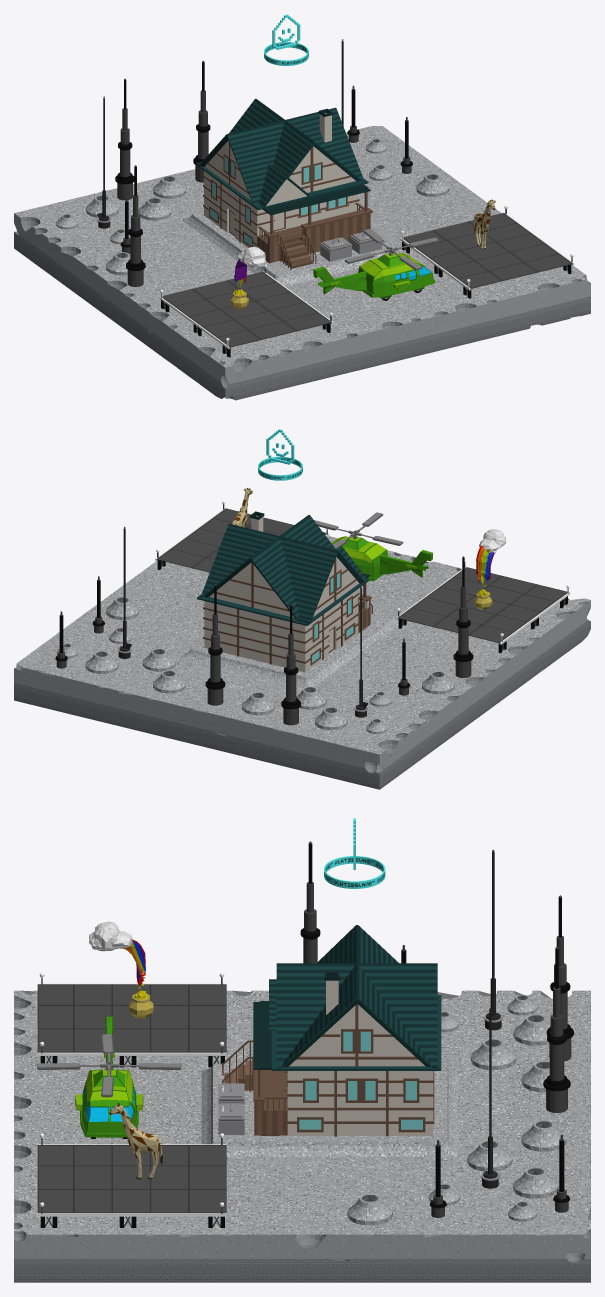
3 views of the same model, one above another, from view 1: azimuth 30°, elevation 25°; view 2: azimuth 150°, elevation 25°; view 3: azimuth 270°, elevation 25° (orthographic). The views are drawn at different scales.
Parts seen in each view (by area): view 1: Cube.027, Cube.793, Cube.025, Cube.026, VEHICLES_HELICOPTER, Cube.028, Cylinder.021, Cylinder.020, OBJRANDOM_RAINBOW, Cylinder.017, TYPE_PREMIUM, Cube.029 (+5 smaller); view 2: Cube.027, Cube.793, Cube.025, Cube.028, Cube.026, VEHICLES_HELICOPTER, OBJRANDOM_RAINBOW, Cylinder.017, Cylinder.021, Cylinder.020, TYPE_PREMIUM, Cylinder.030 (+8 smaller); view 3: Cube.027, Cube.793, Cube.026, Cube.025, Cube.028, VEHICLES_HELICOPTER, Cylinder.017, OBJRANDOM_RAINBOW, Cylinder.020, ANIMAL_JIRAFA, Cylinder.021, TYPE_PREMIUM (+12 smaller).
Part boxes in pixels (left/top/right/bottom): Cube.027: left=14, top=126, right=590, bottom=400; Cube.793: left=196, top=98, right=372, bottom=269; Cube.025: left=159, top=265, right=333, bottom=357; Cube.026: left=400, top=205, right=574, bottom=298; VEHICLES_HELICOPTER: left=313, top=229, right=439, bottom=300; Cube.028: left=182, top=211, right=399, bottom=286; Cylinder.021: left=126, top=165, right=145, bottom=286; Cylinder.020: left=115, top=78, right=134, bottom=200; OBJRANDOM_RAINBOW: left=230, top=247, right=266, bottom=309; Cylinder.017: left=193, top=60, right=210, bottom=182; TYPE_PREMIUM: left=264, top=14, right=308, bottom=65; Cube.029: left=320, top=237, right=351, bottom=261; Cube.027: left=14, top=536, right=590, bottom=789; Cube.793: left=197, top=511, right=372, bottom=672; Cube.025: left=396, top=560, right=570, bottom=653; Cube.028: left=181, top=610, right=398, bottom=688; Cube.026: left=155, top=501, right=329, bottom=572; VEHICLES_HELICOPTER: left=314, top=512, right=432, bottom=581; OBJRANDOM_RAINBOW: left=474, top=529, right=506, bottom=610; Cylinder.017: left=205, top=583, right=225, bottom=705; Cylinder.021: left=453, top=556, right=473, bottom=677; Cylinder.020: left=281, top=603, right=300, bottom=725; TYPE_PREMIUM: left=258, top=429, right=302, bottom=480; Cylinder.030: left=142, top=648, right=175, bottom=671; Cube.027: left=14, top=990, right=590, bottom=1282; Cube.793: left=222, top=925, right=441, bottom=1136; Cube.026: left=37, top=1133, right=226, bottom=1227; Cube.025: left=37, top=973, right=226, bottom=1067; Cube.028: left=201, top=1063, right=457, bottom=1156; VEHICLES_HELICOPTER: left=37, top=1016, right=181, bottom=1138; Cylinder.017: left=543, top=946, right=570, bottom=1112; OBJRANDOM_RAINBOW: left=89, top=921, right=153, bottom=1018; Cylinder.020: left=546, top=895, right=573, bottom=1061; ANIMAL_JIRAFA: left=109, top=1103, right=162, bottom=1179; Cylinder.021: left=300, top=841, right=320, bottom=963; TYPE_PREMIUM: left=324, top=818, right=385, bottom=888.
Bounding box in the file's own units: 4000 × 2703 × 4000.
Materials: 40 (6 with a texture image).
